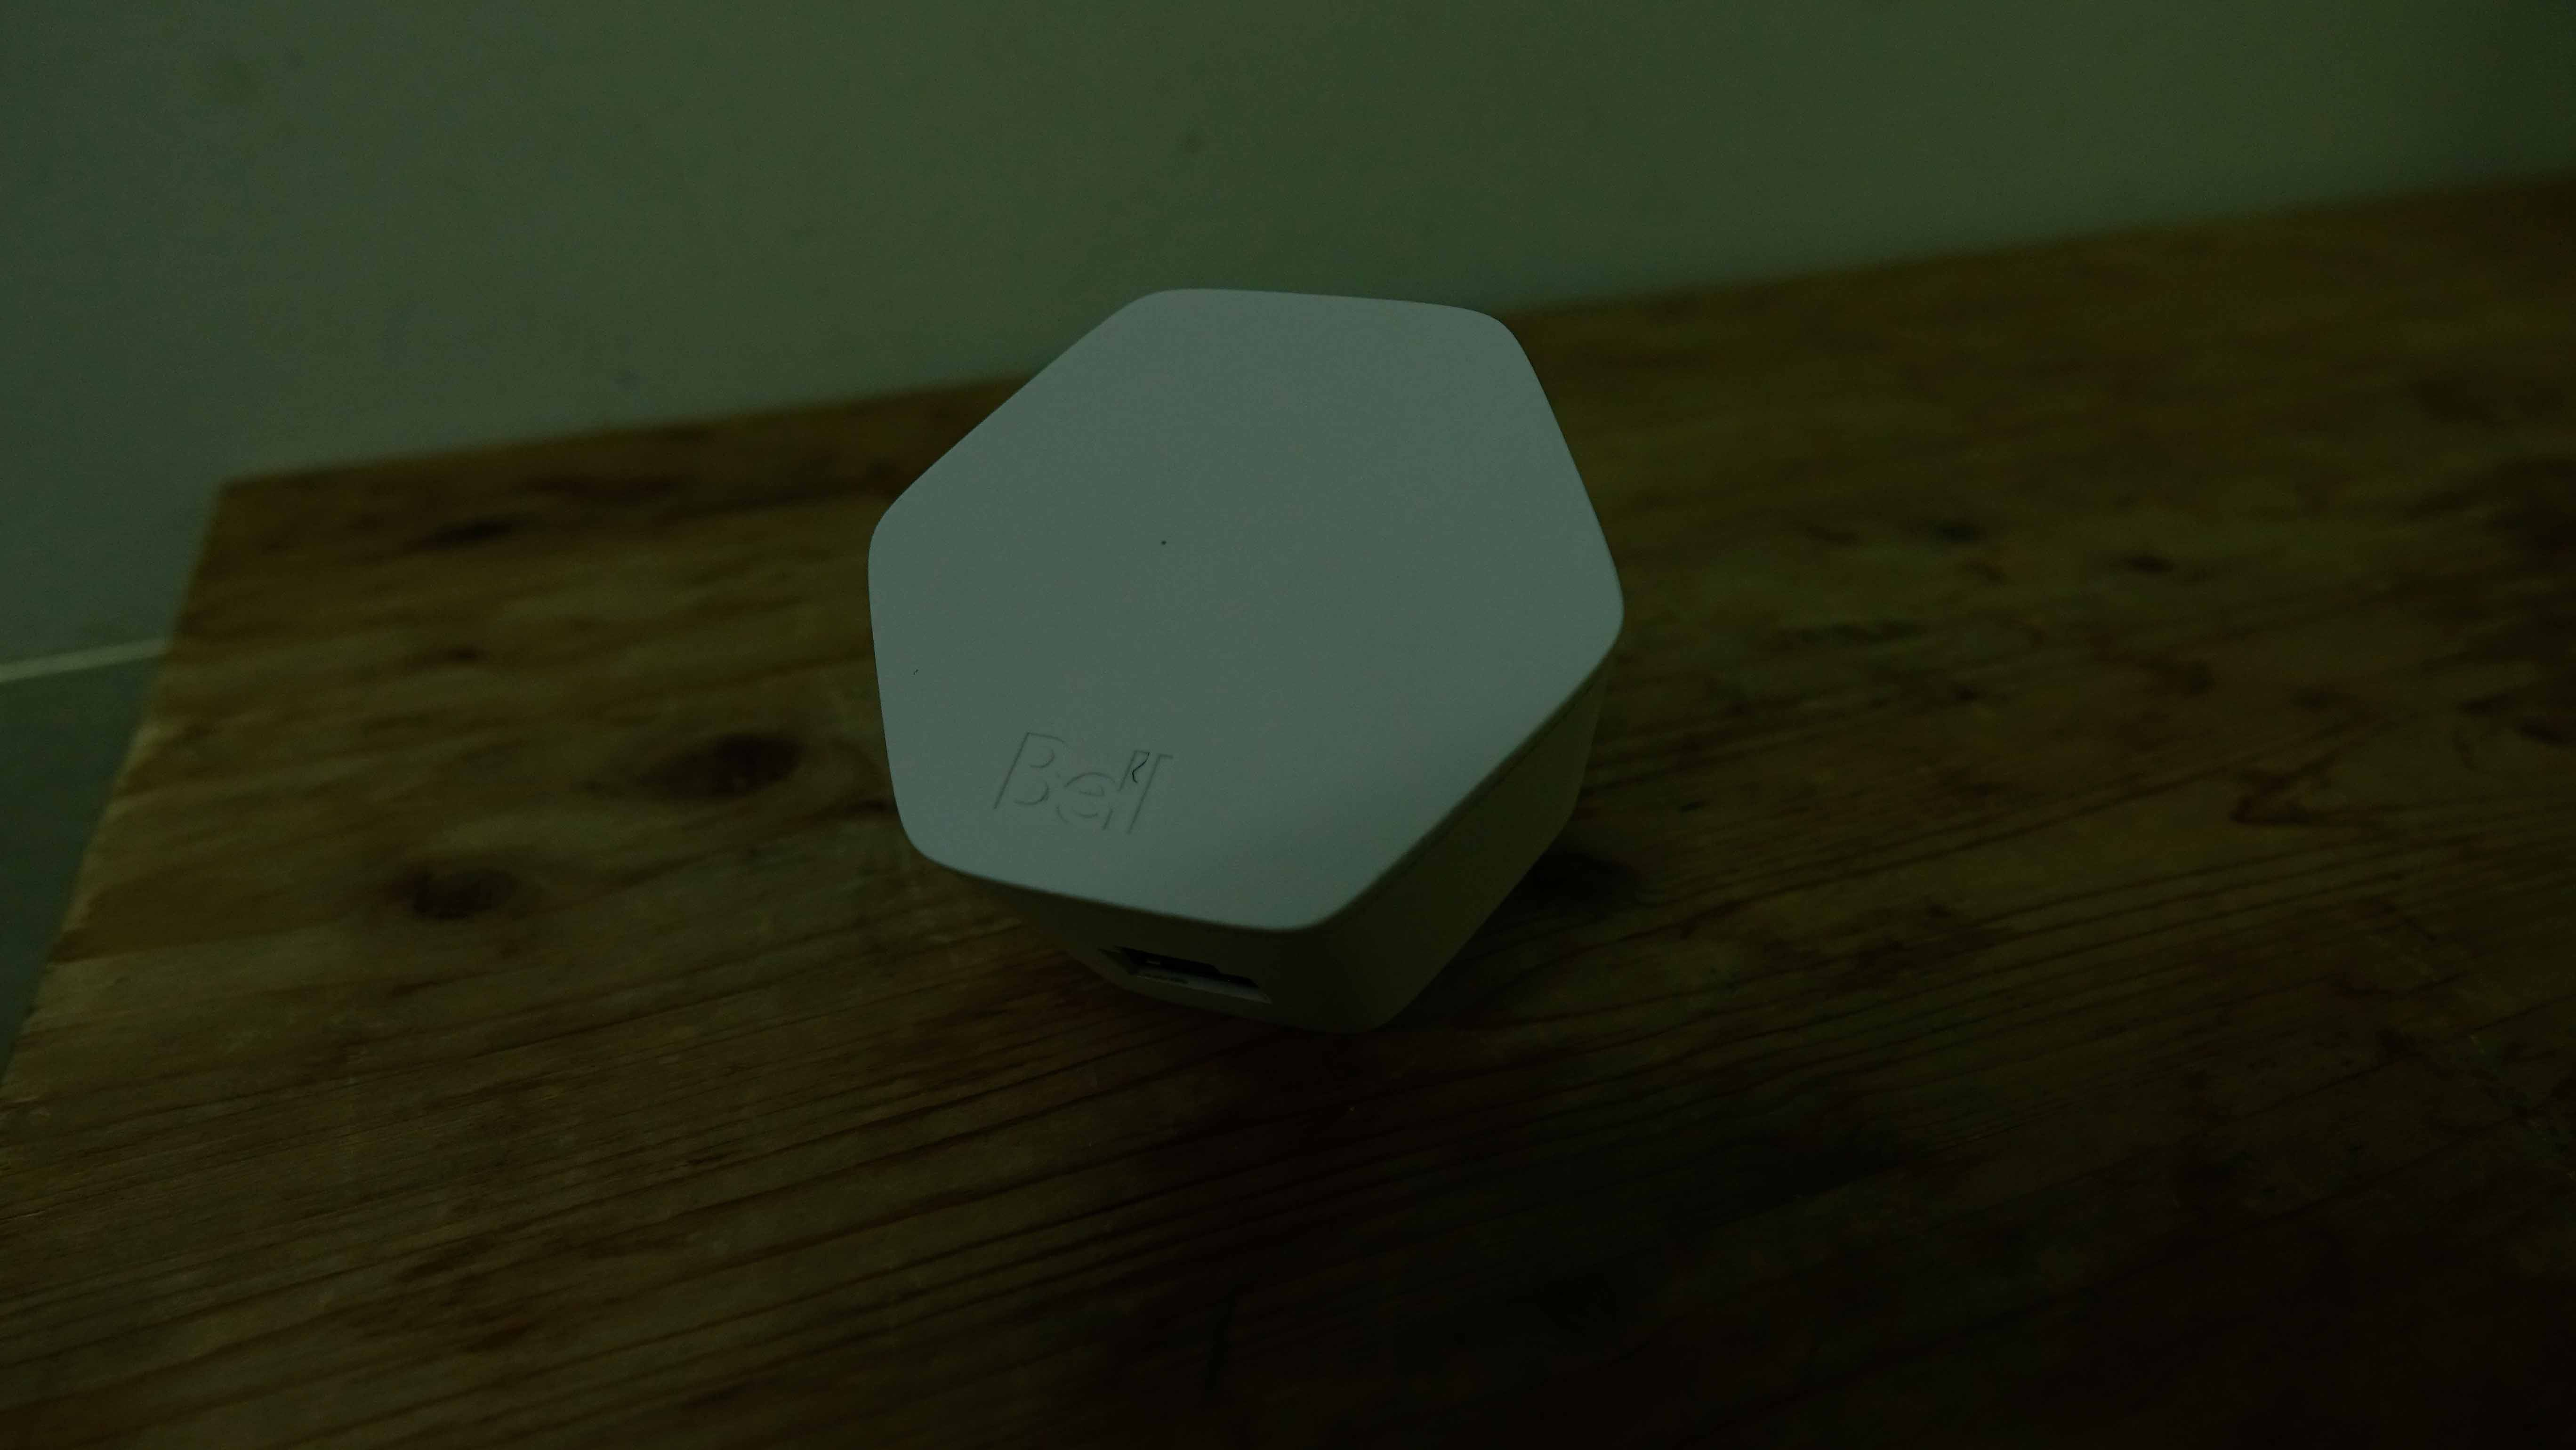pod: (858, 278, 1647, 1042)
